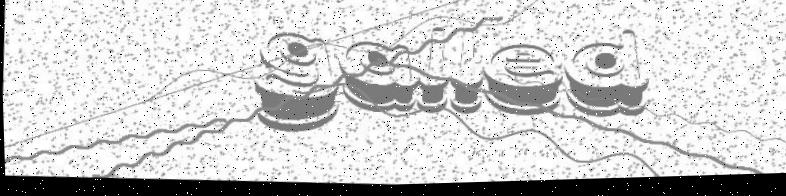a: (338, 41, 420, 116)
e: (561, 30, 652, 124), (480, 44, 567, 120)
g: (250, 32, 342, 136)
l: (447, 30, 485, 117), (416, 30, 453, 118)
